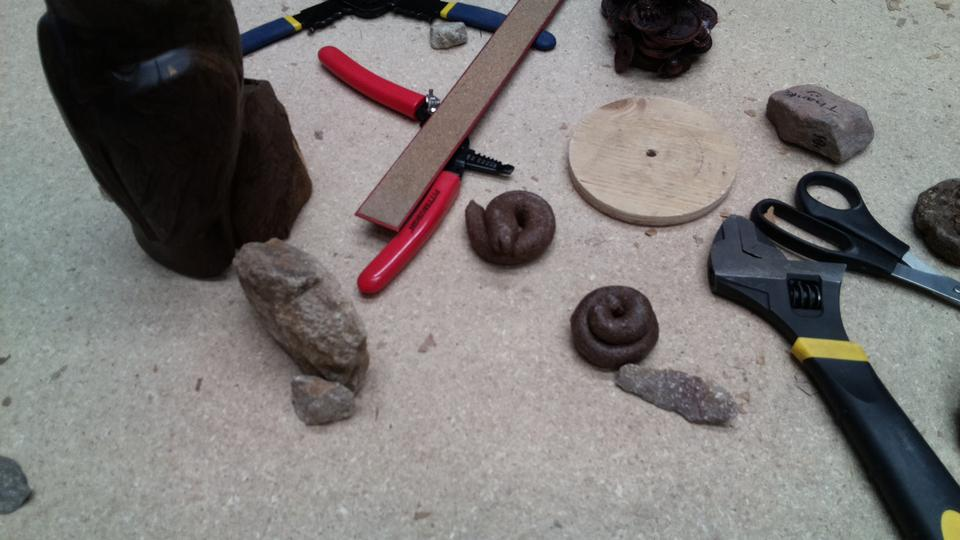poop: (569, 279, 663, 374), (460, 187, 558, 273), (912, 170, 960, 269)
